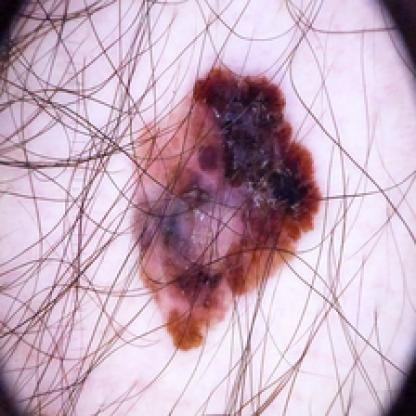Skin_Cancer-Malignant: (133, 65, 324, 352)
